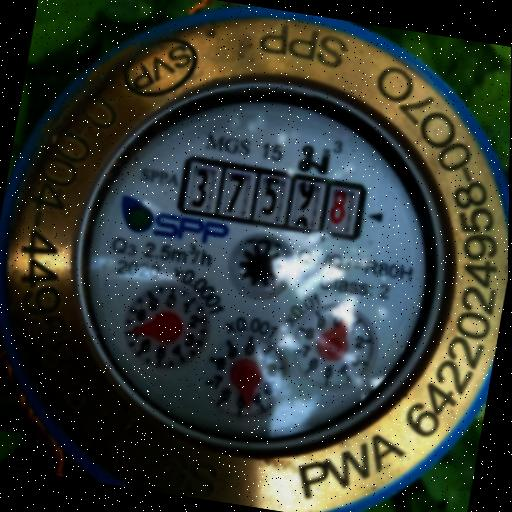3: (187, 168, 215, 211)
5: (257, 179, 283, 224)
7: (221, 173, 248, 217)
8: (327, 190, 355, 232)
9: (293, 186, 318, 228)
border_water_meter_number: (176, 156, 369, 242)
